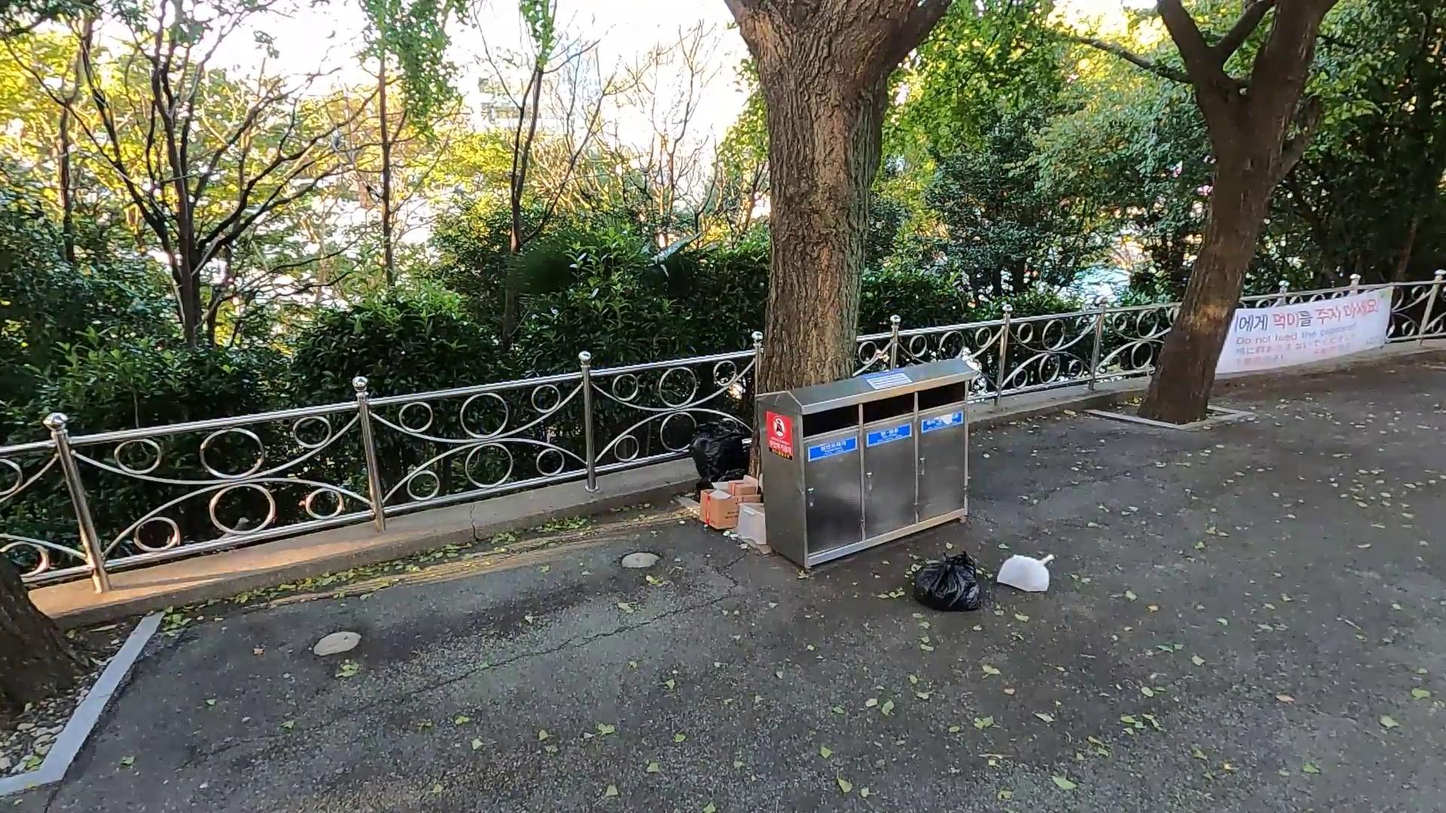trash: (693, 416, 748, 494), (916, 554, 979, 610), (696, 487, 764, 532), (998, 551, 1056, 595), (689, 470, 750, 502), (735, 500, 768, 544), (719, 472, 760, 497)
